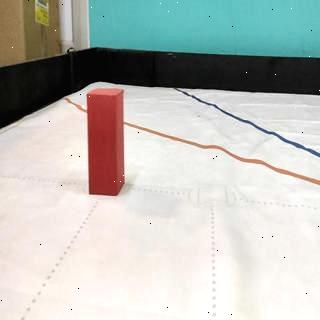redbox: (87, 86, 124, 196)
